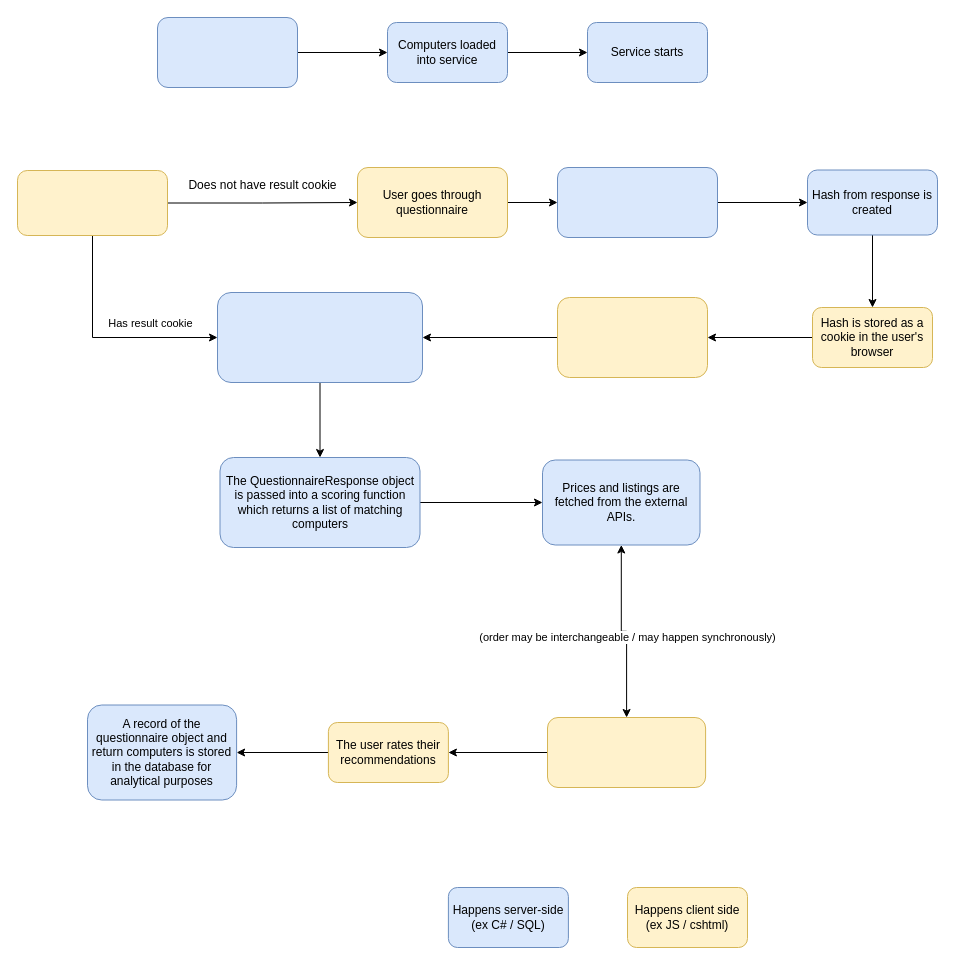
Image size: 955x965. Some labels were removed from this diagram. Here are the shapes that lost their labels. From the top down, the centre of each, then its label:
At (x=227, y=52): "Questions loaded into service".
At (x=92, y=203): "User goes to website".
At (x=637, y=202): "QuestionnaireResponse object is constructed from their responses".
At (x=319, y=337): "Hash is deconstructed and a QuestionnaireResponse object is created from it".
At (x=632, y=337): "Hash is passed as a query parameter to the results screen".
At (x=626, y=752): "The results are displayed to the user.".
